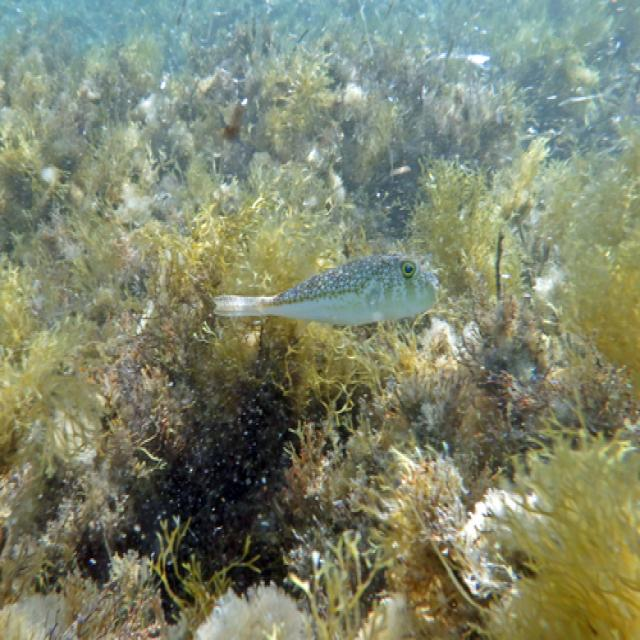Balik: (214, 255, 437, 325)
